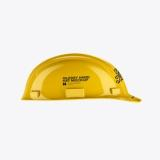Helmet: (20, 52, 143, 104)
